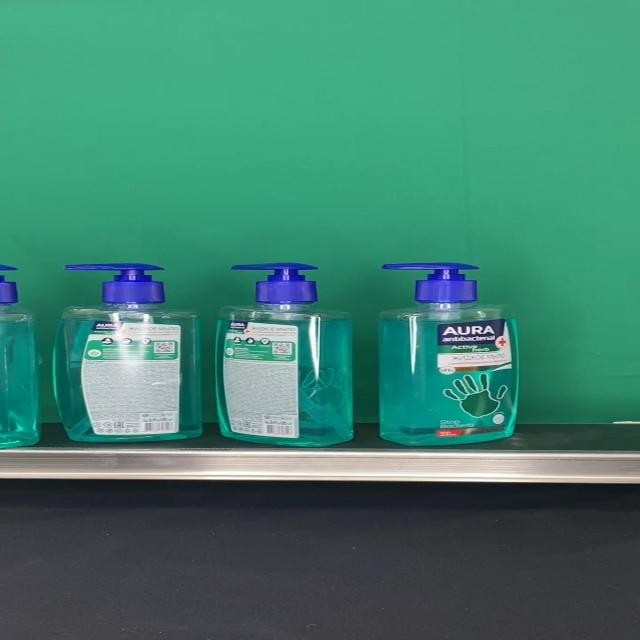Bottle: (53, 264, 202, 442), (378, 262, 519, 446), (216, 262, 353, 446)
Cap: (382, 262, 480, 304), (64, 264, 162, 305), (232, 262, 320, 304)
